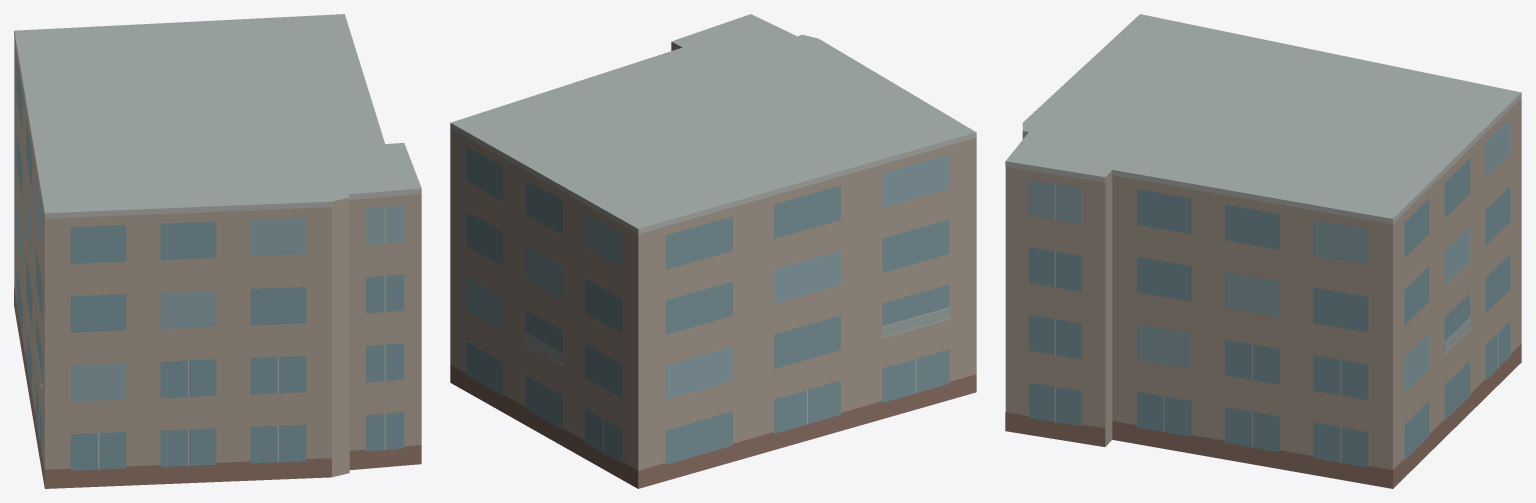
File: survey-upis-32671566.glb
The picture shows the model from 3 angles, left to right: view 1: azimuth 30°, elevation 25°; view 2: azimuth 150°, elevation 25°; view 3: azimuth 270°, elevation 25°; orthographic projection. The views are drawn at different scales.
Parts seen in each view (by area): view 1: survey-upis-32671566.tmp; view 2: survey-upis-32671566.tmp; view 3: survey-upis-32671566.tmp.
Part boxes in pixels (x1=…): survey-upis-32671566.tmp: x1=14, y1=14, x2=421, y2=488; survey-upis-32671566.tmp: x1=450, y1=14, x2=976, y2=488; survey-upis-32671566.tmp: x1=1005, y1=14, x2=1521, y2=488.
Bounding box in the file's own units: 19.88 × 12.2 × 21.15.
